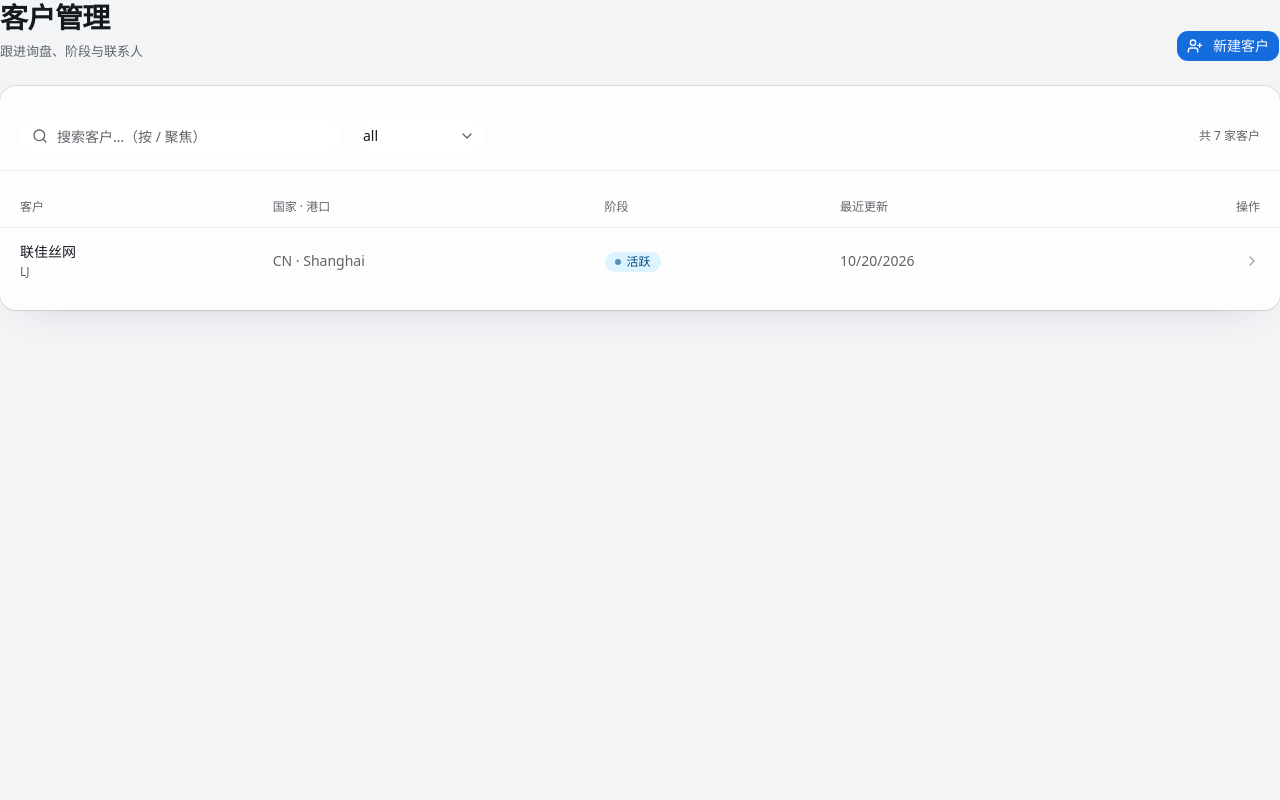
删联系人 C3：失败不再静默 › DELETE 失败 ⇒ 页内 role=alert 显示原因，确认行保留可重试
Click the row with test id "customer-card".
click(640, 261)  # box x1=0 y1=228 x2=1279 y2=294
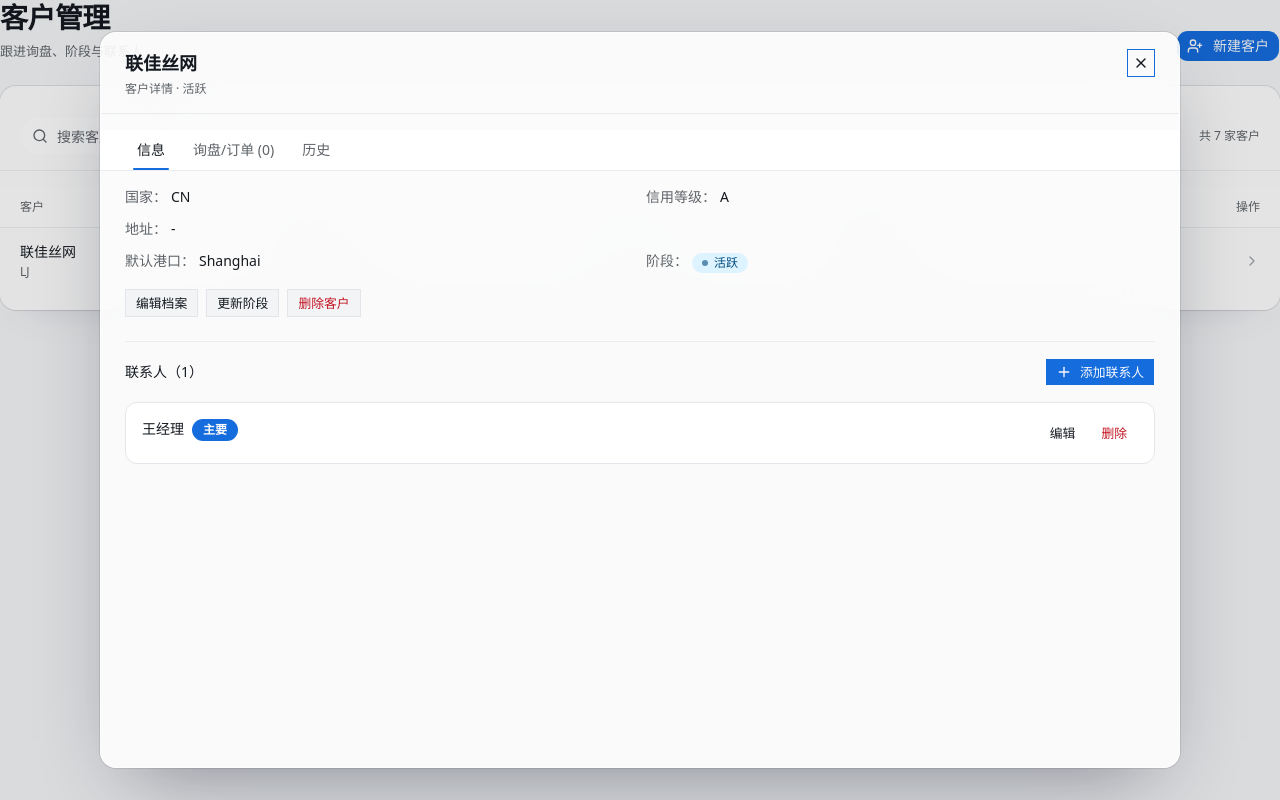
Expected: the button "删除" is shown
Click the button "删除".
click(1114, 433)  # box x1=1090 y1=419 x2=1138 y2=447
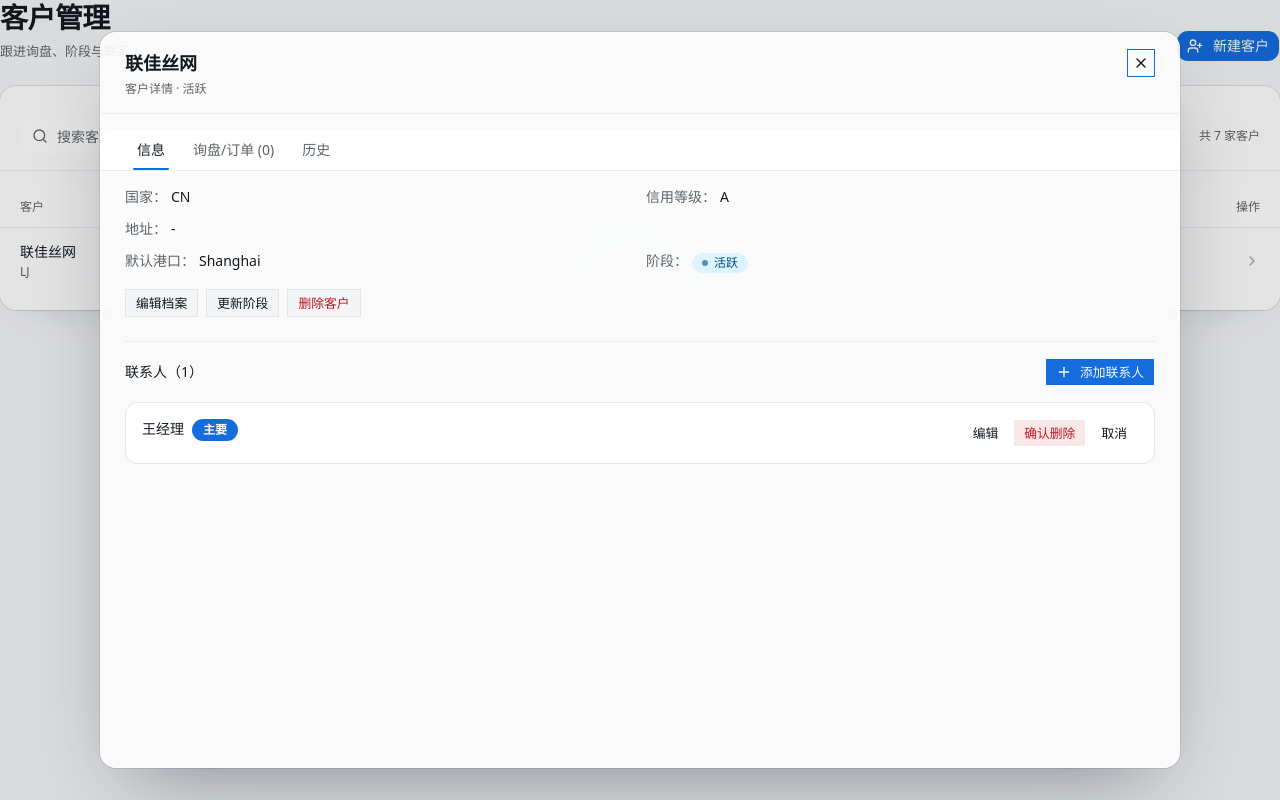
Expected: the button "确认删除" is shown
Click the button "确认删除".
click(1050, 433)  # box x1=1013 y1=419 x2=1086 y2=447
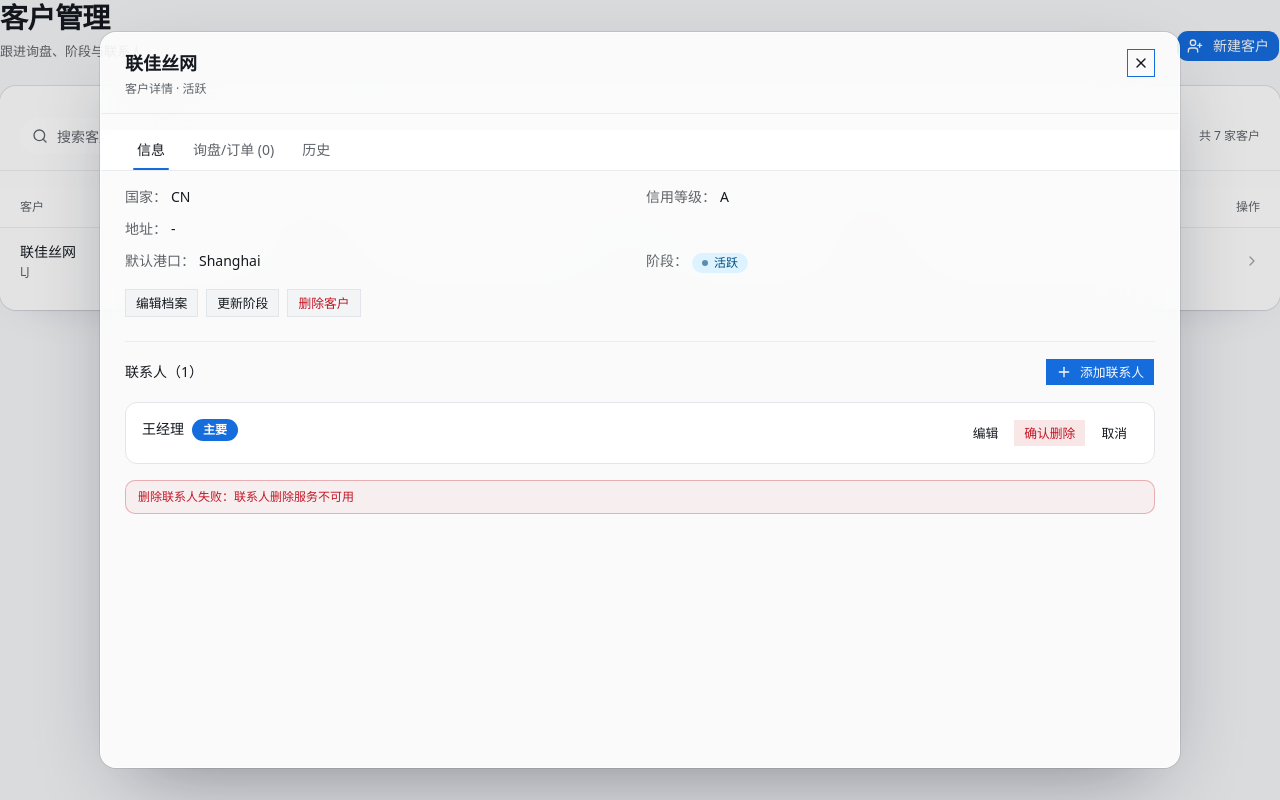
Expected: the message "删除联系人失败：联系人删除服务不可用" is shown, x1=125 y1=480 x2=1155 y2=514
